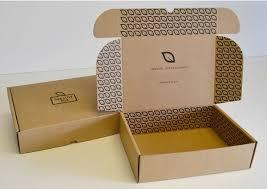box: (94, 7, 258, 183), (6, 73, 120, 155)
